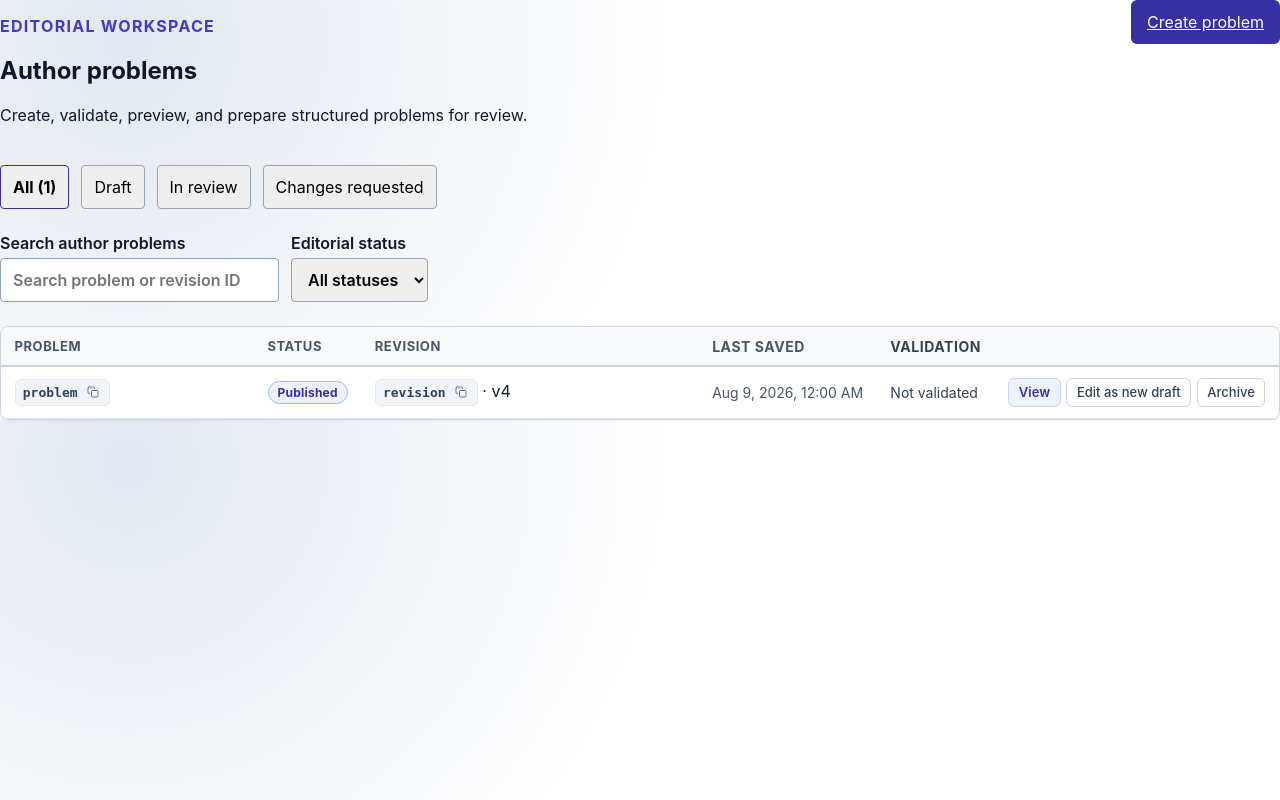
Test: IOAI Studio author problem list › renders backdrop overlay, locks body scroll, and traps focus in archive dialog
Click the button "Archive" at point(1231, 392), box [1197,378,1266,407]
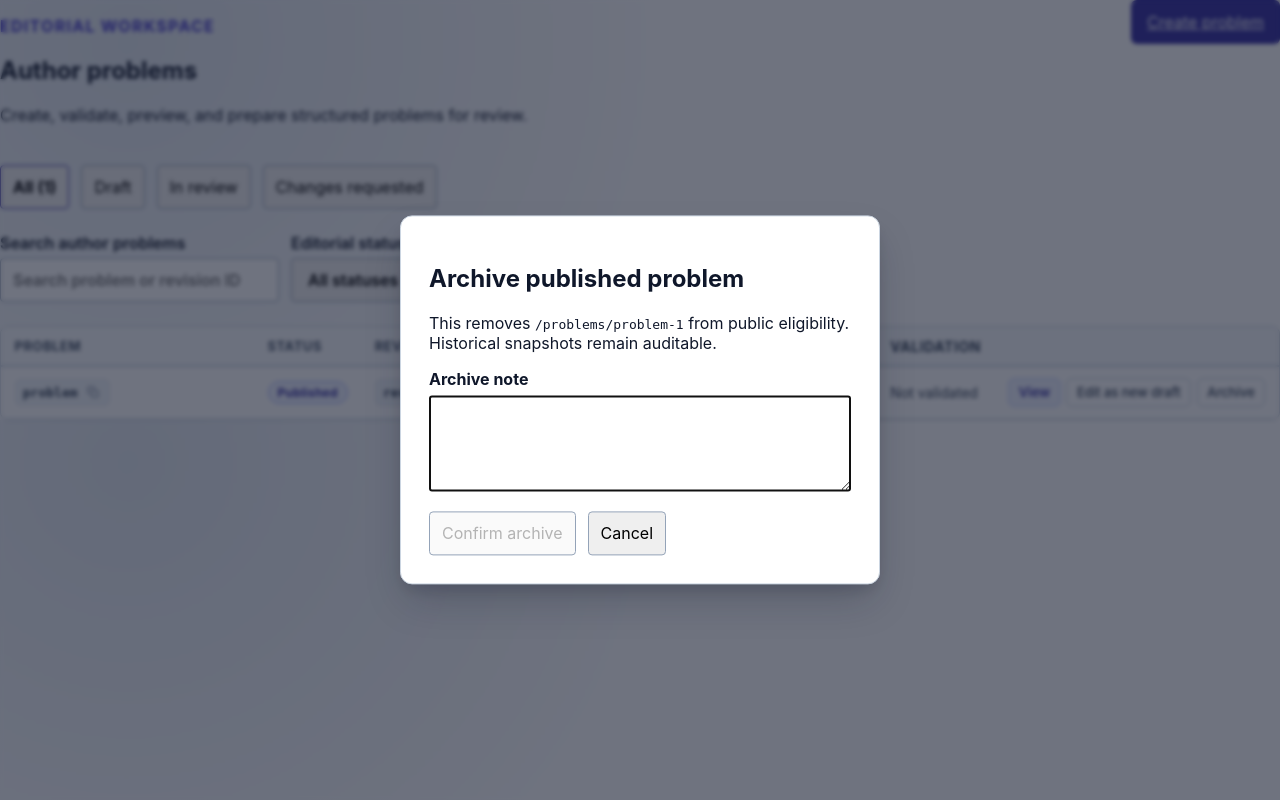
Result: the element with test id "archive-backdrop" is shown
Shift+Tab from note wraps to cancelBtn
Press Tab
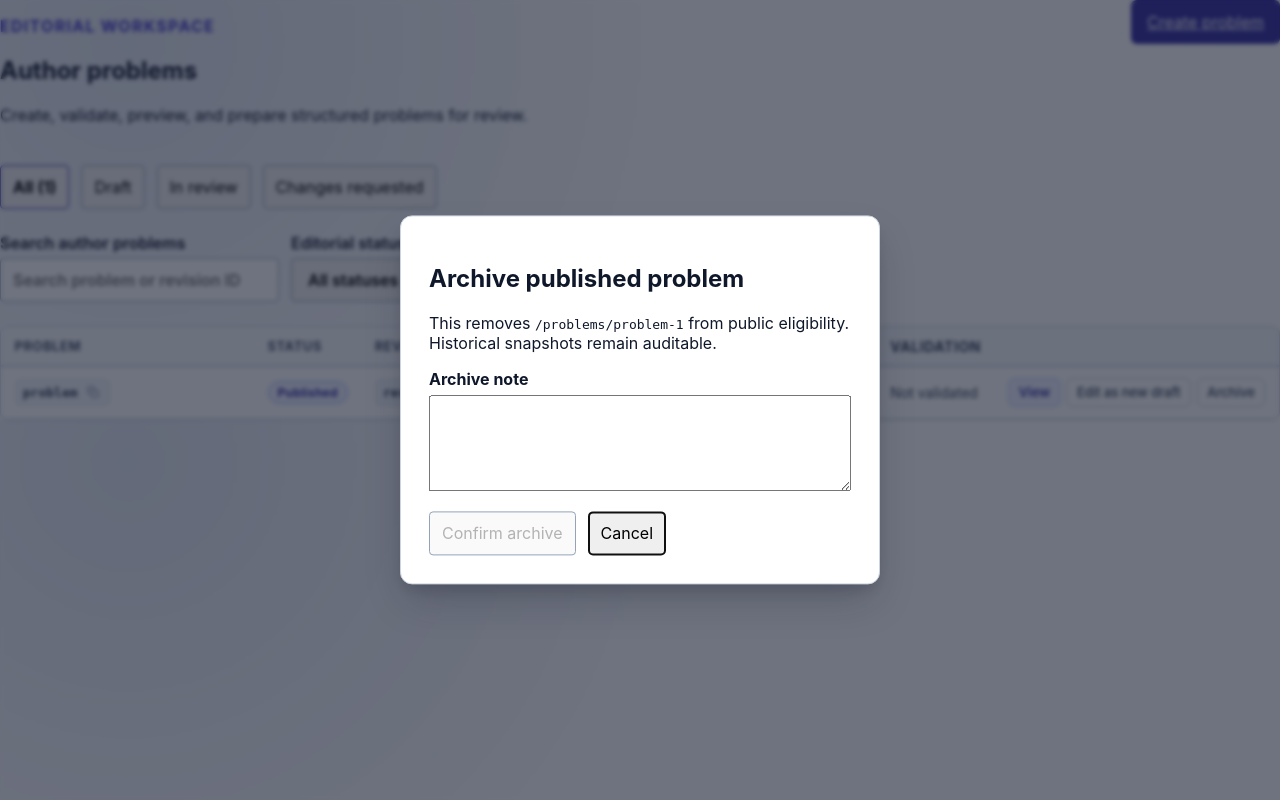
Tab from cancelBtn wraps back to note
Press Tab
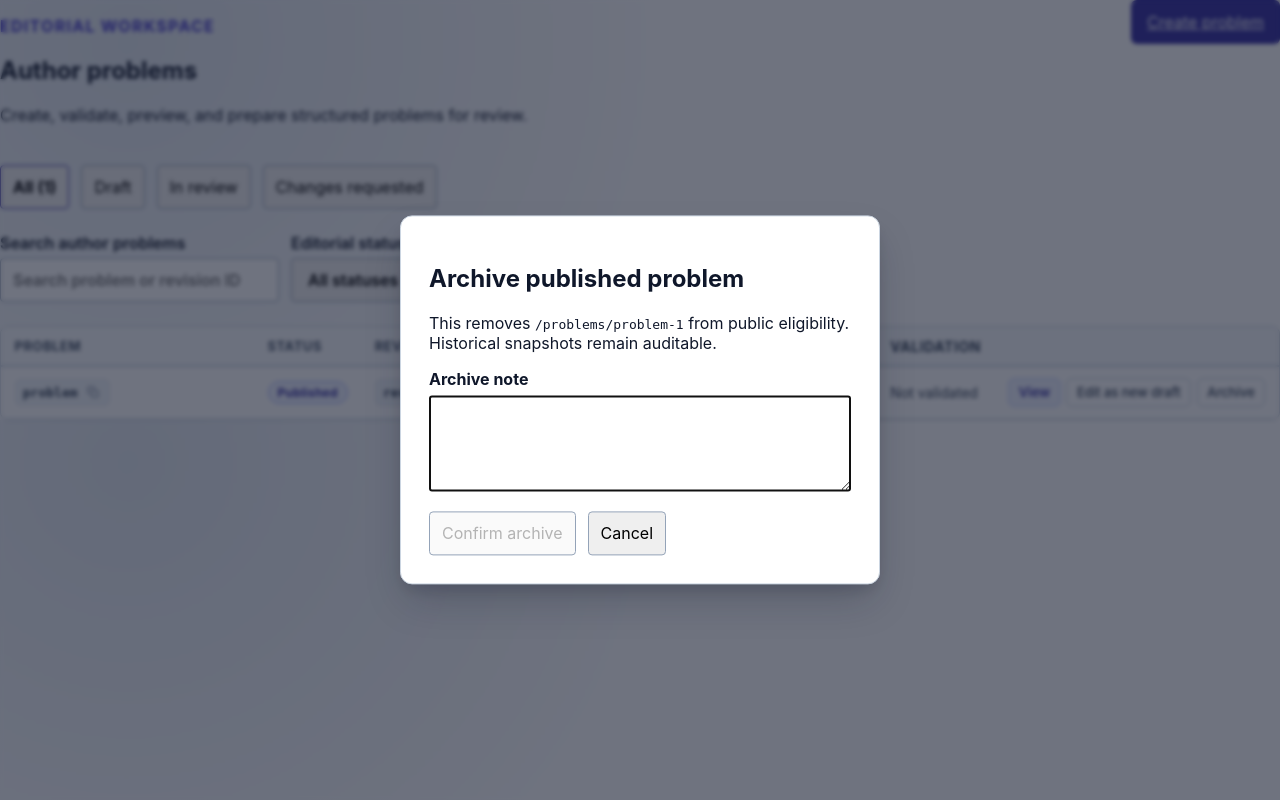
Escape closes dialog and restores focus
Press Escape
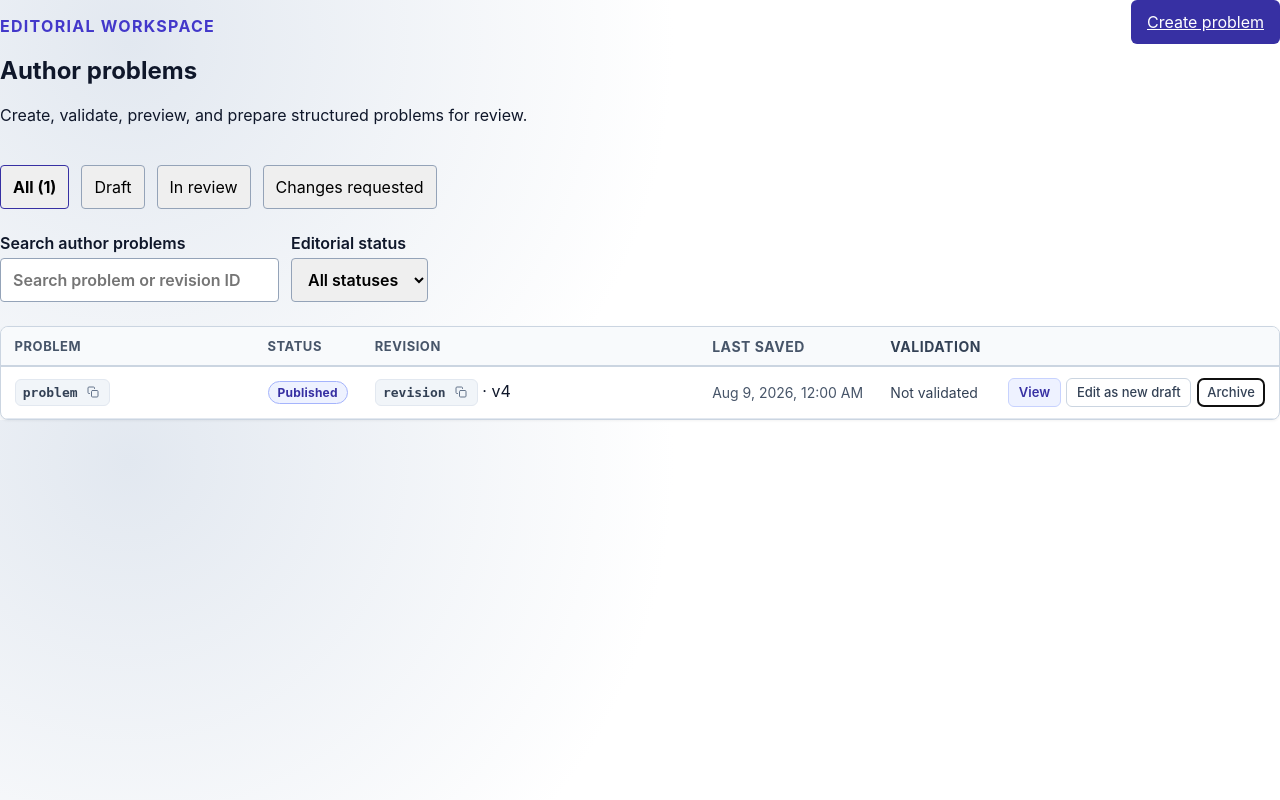
Result: the dialog is gone
